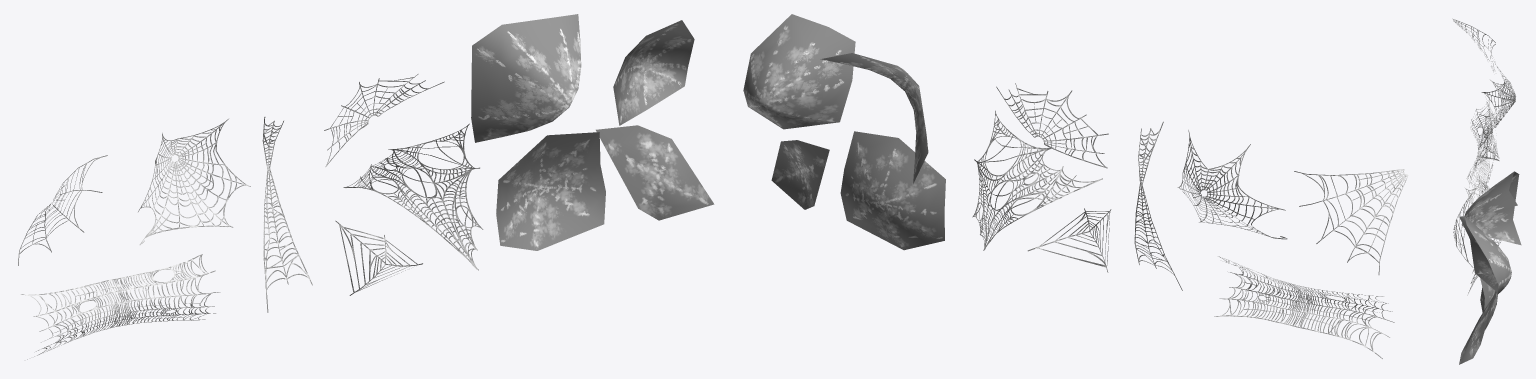
Rendered from telaraña.glb.
The picture shows the model from 3 angles, left to right: view 1: azimuth 30°, elevation 25°; view 2: azimuth 150°, elevation 25°; view 3: azimuth 270°, elevation 25°; orthographic projection. The views are drawn at different scales.
Parts seen in each view (by area): view 1: Object_2, Object_4, Object_3; view 2: Object_2, Object_4, Object_3; view 3: Object_2, Object_4, Object_3.
Boxes of the visible parts, box(x1,y1,x2,y2) form: Object_2: box(471, 14, 714, 250); Object_4: box(18, 119, 250, 359); Object_3: box(262, 74, 483, 312); Object_2: box(743, 14, 945, 250); Object_4: box(1177, 130, 1408, 358); Object_3: box(972, 83, 1182, 290); Object_2: box(1459, 171, 1521, 364); Object_4: box(1452, 18, 1515, 195); Object_3: box(1453, 98, 1500, 295).
Size of the model in its own units: 192 by 58.15 by 26.86.
3 materials, 3 textured.
